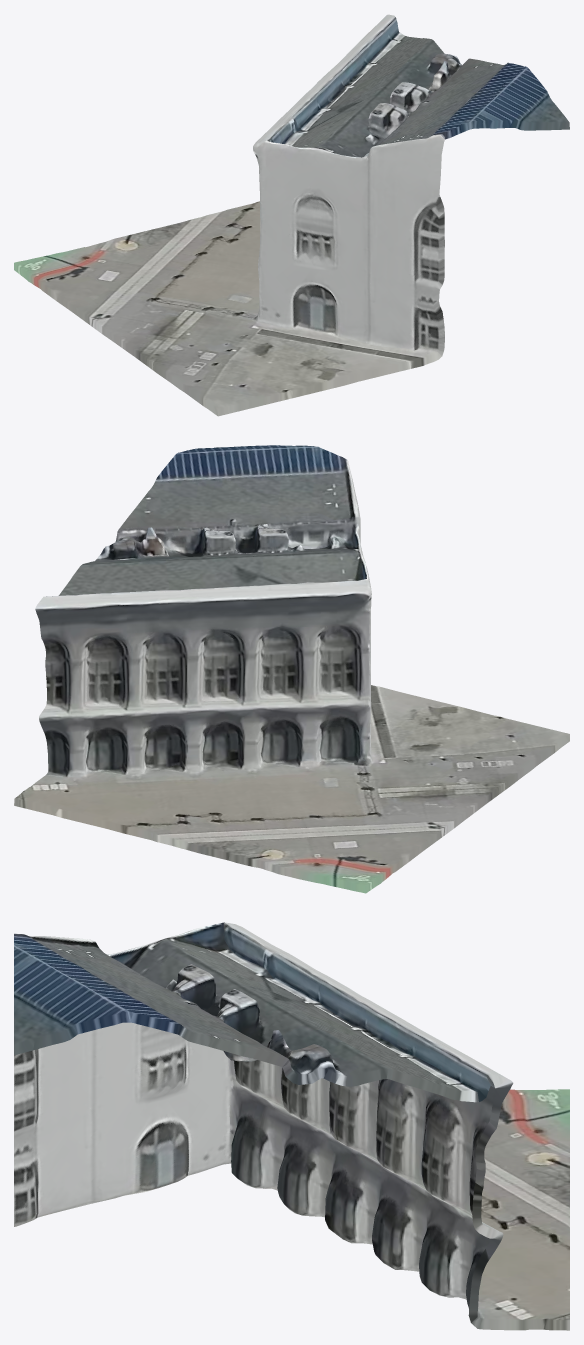
File: z20-167792-405223-h0-yup-uvflip-v3-world.glb
3 views of the same model, one above another, from view 1: azimuth 30°, elevation 25°; view 2: azimuth 150°, elevation 25°; view 3: azimuth 270°, elevation 25° (orthographic). The views are drawn at different scales.
Bounding box in the file's own units: 30.2 × 19.52 × 30.32.
1 material, 1 textured.
